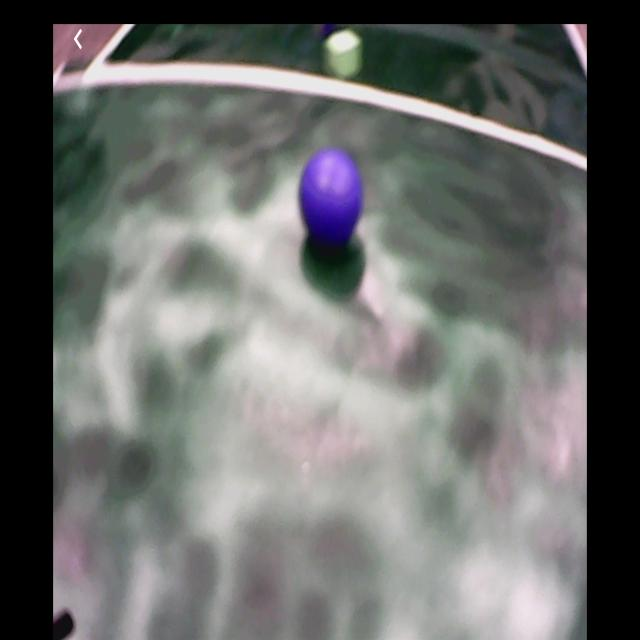ball: (300, 146, 361, 241)
